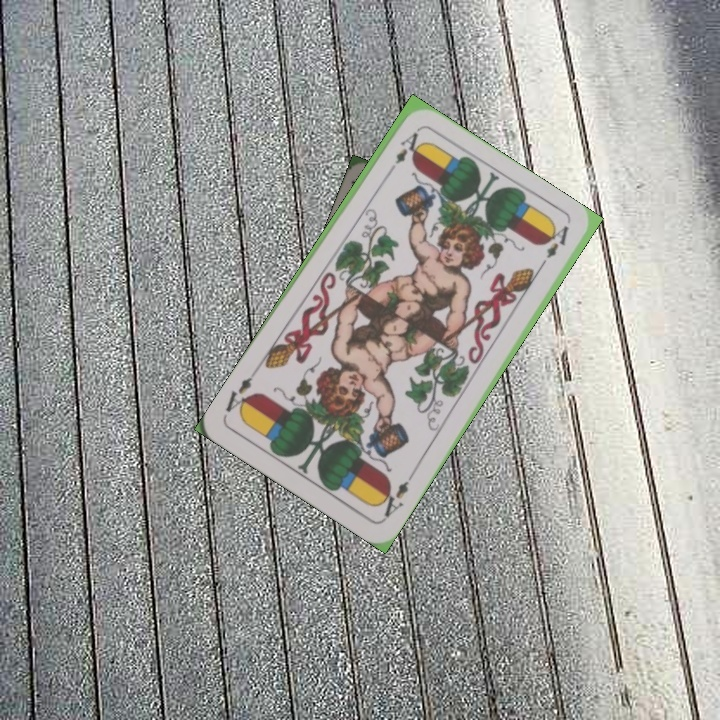EA: (373, 469, 416, 522), (382, 128, 421, 179)
